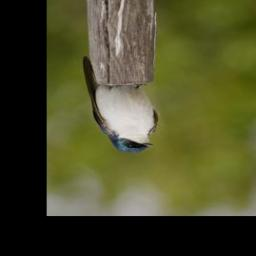Swallow: (82, 56, 161, 158)
